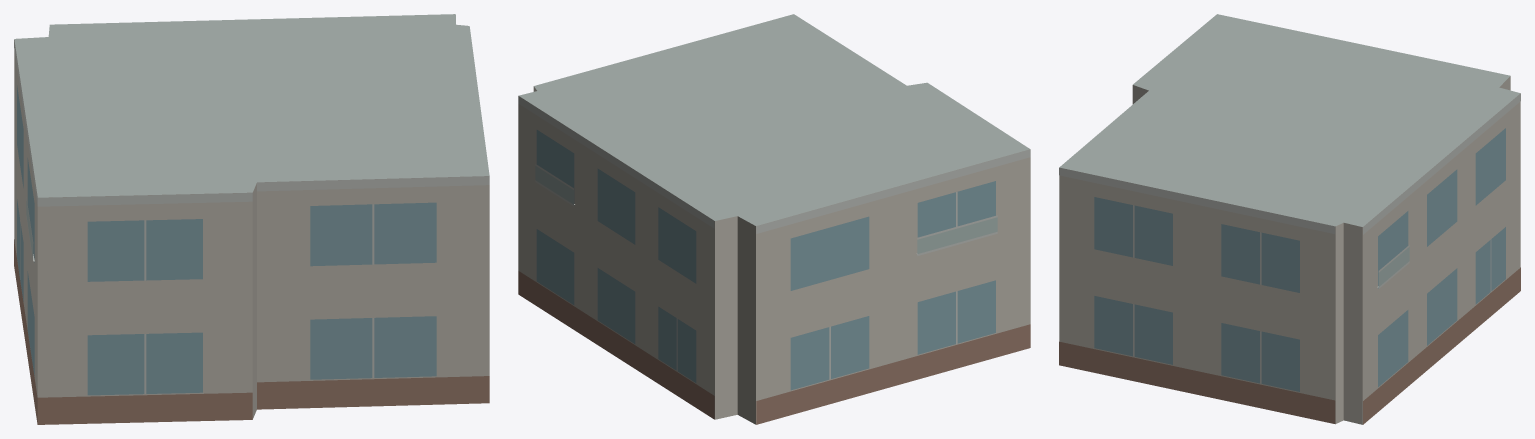
Rendered from survey-upis-32665980.glb.
The picture shows the model from 3 angles, left to right: view 1: azimuth 30°, elevation 25°; view 2: azimuth 150°, elevation 25°; view 3: azimuth 270°, elevation 25°; orthographic projection. The views are drawn at different scales.
Parts seen in each view (by area): view 1: survey-upis-32665980.tmp; view 2: survey-upis-32665980.tmp; view 3: survey-upis-32665980.tmp.
Part boxes in pixels (left/top/right/bottom): survey-upis-32665980.tmp: left=14, top=14, right=489, bottom=424; survey-upis-32665980.tmp: left=518, top=14, right=1030, bottom=424; survey-upis-32665980.tmp: left=1059, top=14, right=1520, bottom=424.
Size of the model in its own units: 14.11 by 6.1 by 12.92.
